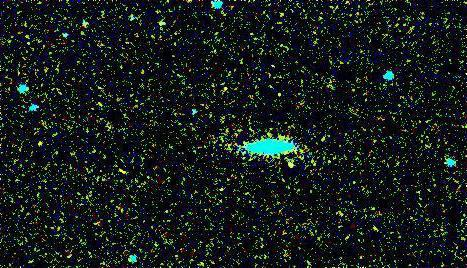star: (274, 154, 304, 184)
